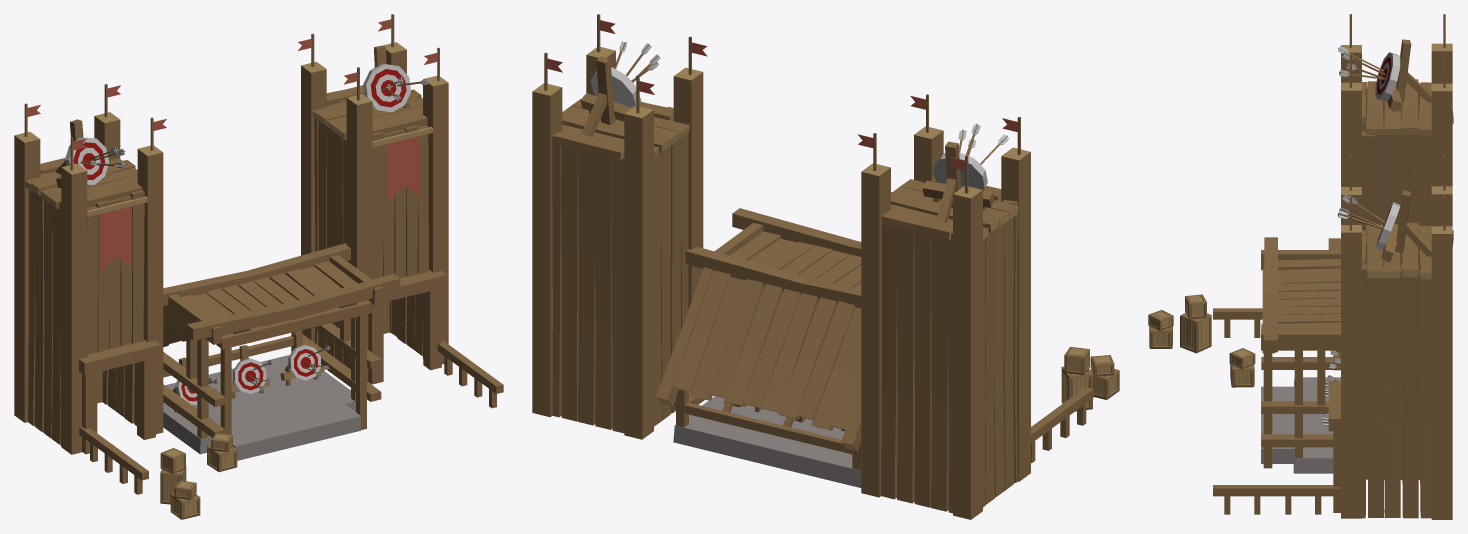
File: Archery_FirstAge_Level3.glb
3 renders of one model, left to right at view 1: azimuth 30°, elevation 25°; view 2: azimuth 150°, elevation 25°; view 3: azimuth 270°, elevation 25°, orthographic. The views are drawn at different scales.
Visible parts, largest first — view 1: Archery_FirstAge_Level3; view 2: Archery_FirstAge_Level3; view 3: Archery_FirstAge_Level3.
Part boxes in pixels (bbox=[...]): Archery_FirstAge_Level3: bbox=[14, 14, 503, 519]; Archery_FirstAge_Level3: bbox=[532, 14, 1119, 519]; Archery_FirstAge_Level3: bbox=[1148, 14, 1453, 519].
Bounding box in the file's own units: 1.88 × 1.51 × 1.27.
1 material, 1 textured.
